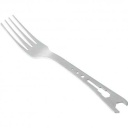Fork: (1, 9, 128, 119)
